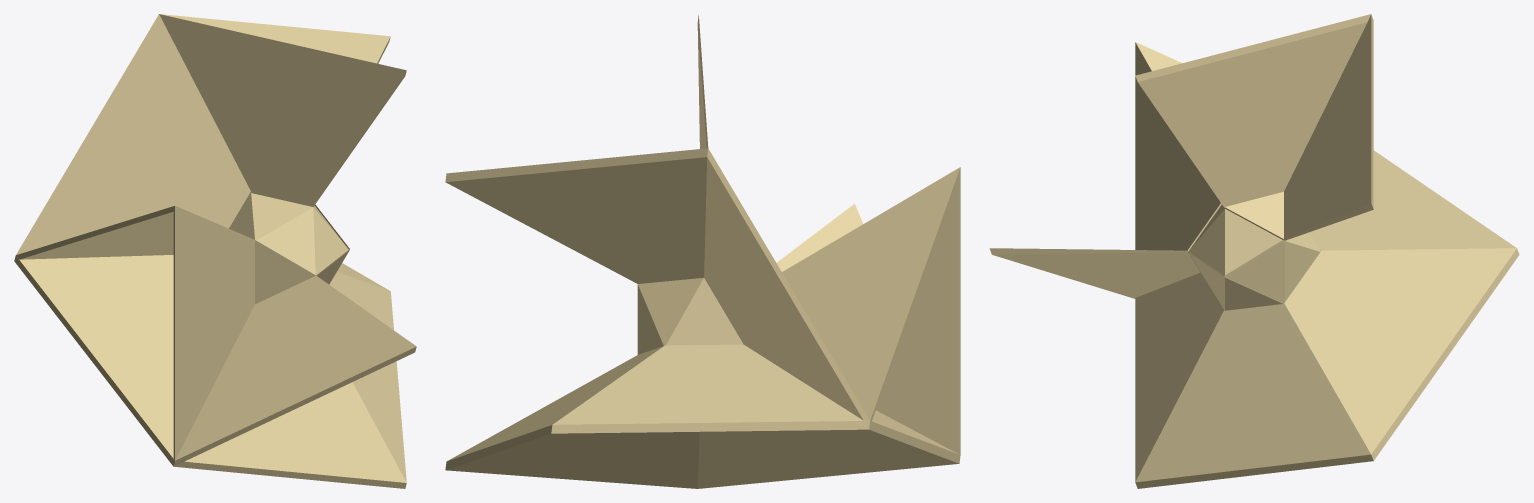
The model's file is corail_special.fbx.
The picture shows the model from 3 angles, left to right: view 1: azimuth 30°, elevation 25°; view 2: azimuth 150°, elevation 25°; view 3: azimuth 270°, elevation 25°; orthographic projection. The views are drawn at different scales.
Parts seen in each view (by area): view 1: corail_WTF; view 2: corail_WTF; view 3: corail_WTF.
Part boxes in pixels (box(x1,y1,x2,y2)): corail_WTF: box(14, 14, 416, 488); corail_WTF: box(445, 15, 960, 488); corail_WTF: box(989, 14, 1519, 488).
Bounding box in the file's own units: 0.5561 × 0.5939 × 0.6901.
